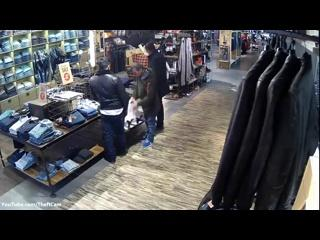Normal: (88, 58, 130, 164), (144, 42, 170, 131), (133, 76, 162, 149)
